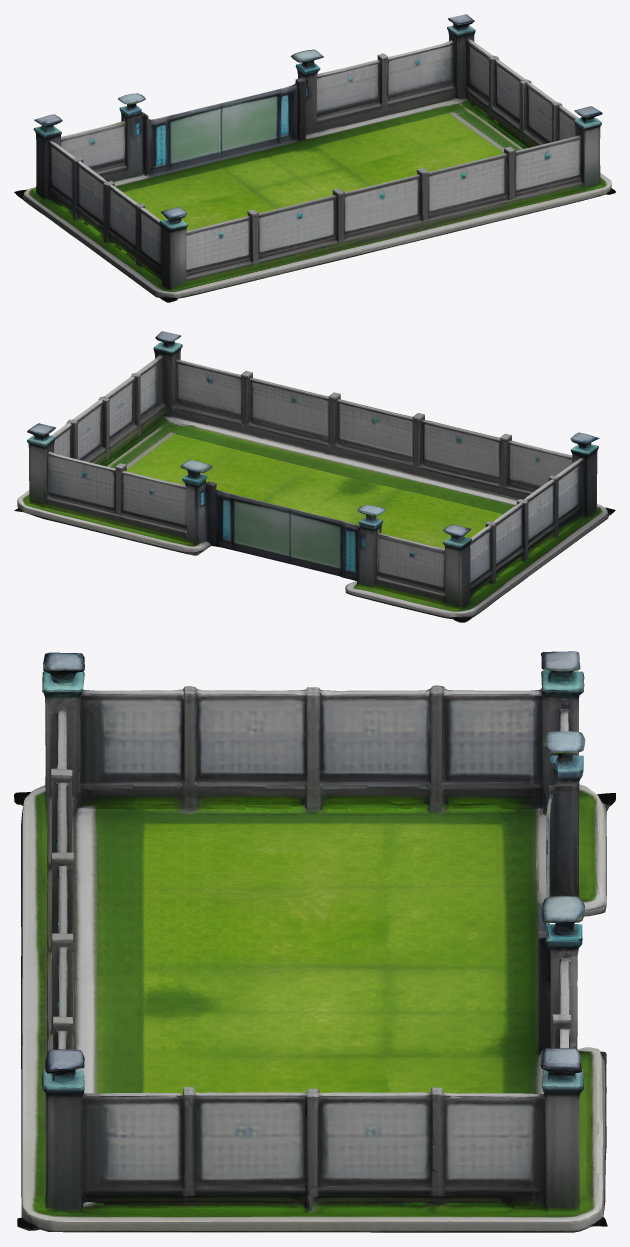
Rendered from school_boundary.glb.
The picture shows the model from 3 angles, top to bottom: view 1: azimuth 30°, elevation 25°; view 2: azimuth 150°, elevation 25°; view 3: azimuth 270°, elevation 25°; orthographic projection. The views are drawn at different scales.
Parts seen in each view (by area): view 1: world; view 2: world; view 3: world.
Part boxes in pixels (<box>): world: <box>14,14,615,302</box>; world: <box>14,331,615,622</box>; world: <box>14,651,615,1232</box>.
Size of the model in its own units: 1 by 0.1728 by 0.5796.
1 material, 1 textured.
